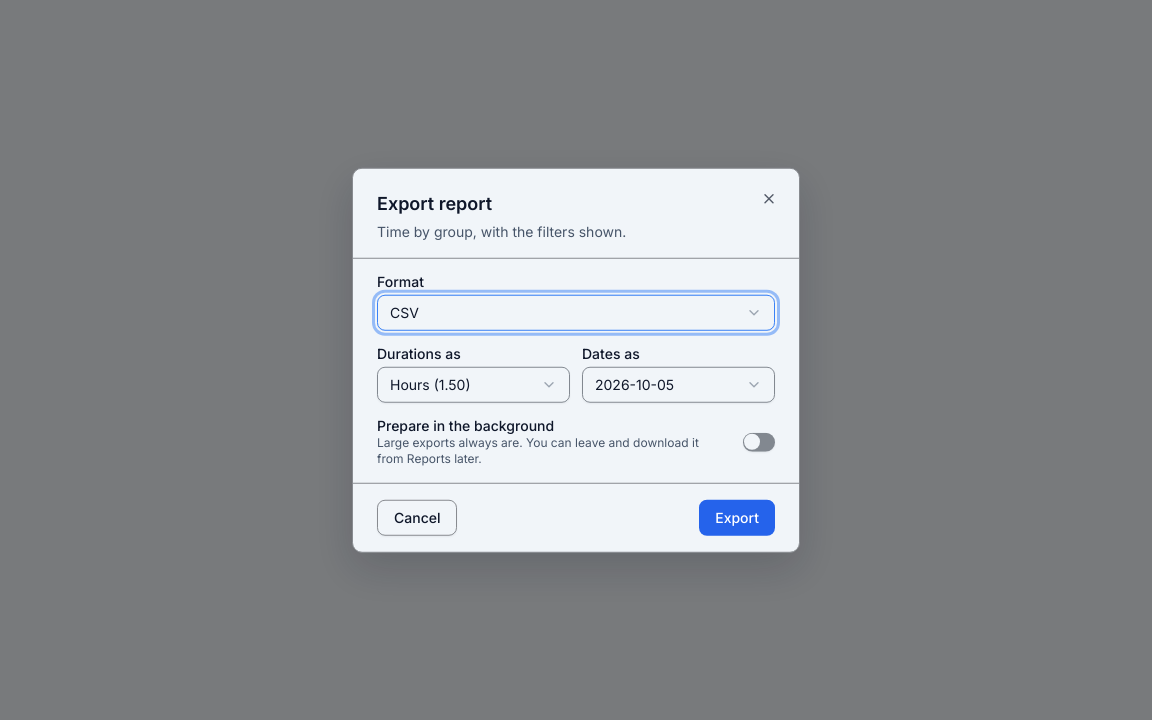
Scenario: <ExportDialog> › says when the job fails
Click the button "Export".
click(737, 517)  # box top-left (699, 499), bottom-right (775, 535)
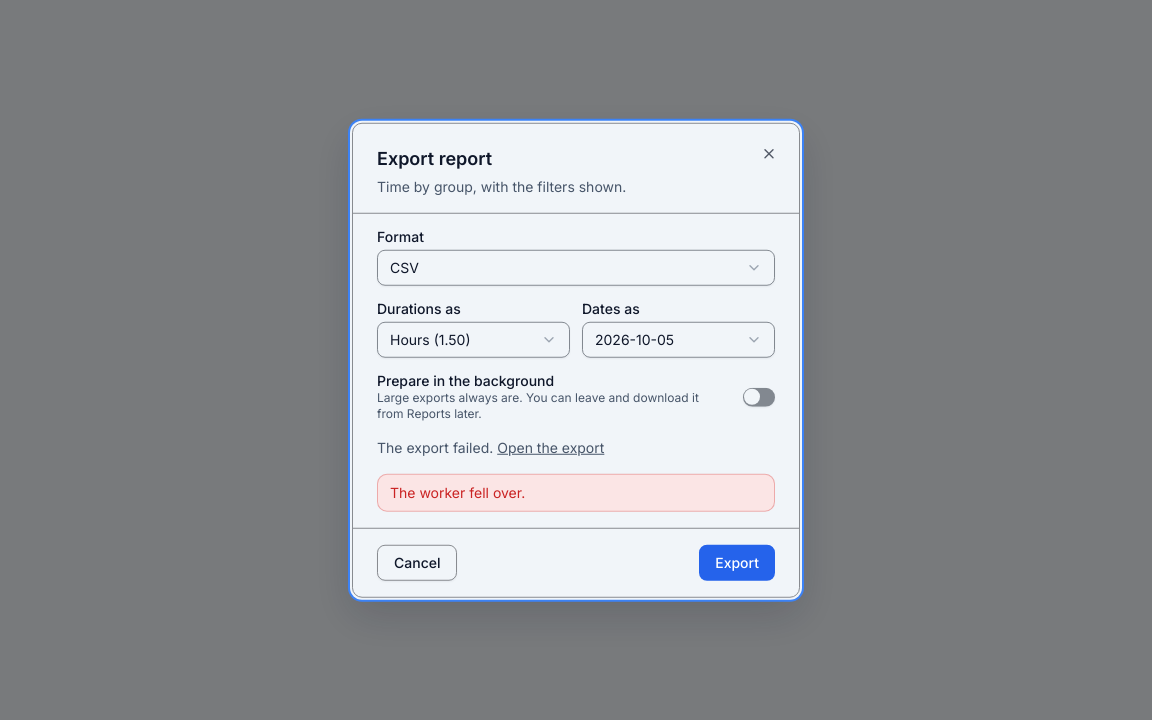
Expected: the text "The worker fell over." is shown, top-left (377, 473), bottom-right (775, 511)
Expected: the message with test id "export-job-status" shows "The export failed.", top-left (377, 438), bottom-right (493, 455)
